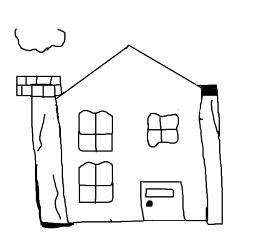chimney: (9, 67, 71, 124), (190, 70, 229, 120)
closed_window: (74, 155, 117, 210), (71, 107, 117, 156), (142, 107, 184, 150)
clouds: (11, 15, 69, 57)
door: (137, 176, 188, 224)
single_line_roof: (56, 39, 213, 107)
wall: (53, 88, 218, 237)
